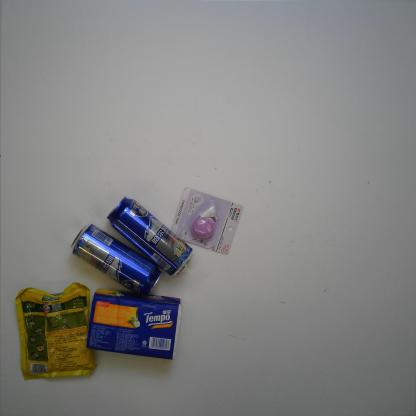Alcohol: (106, 195, 194, 277), (69, 223, 163, 295)
Seasoner: (14, 281, 98, 382)
Stationery: (170, 186, 244, 256)
Tissue: (85, 287, 183, 361)
